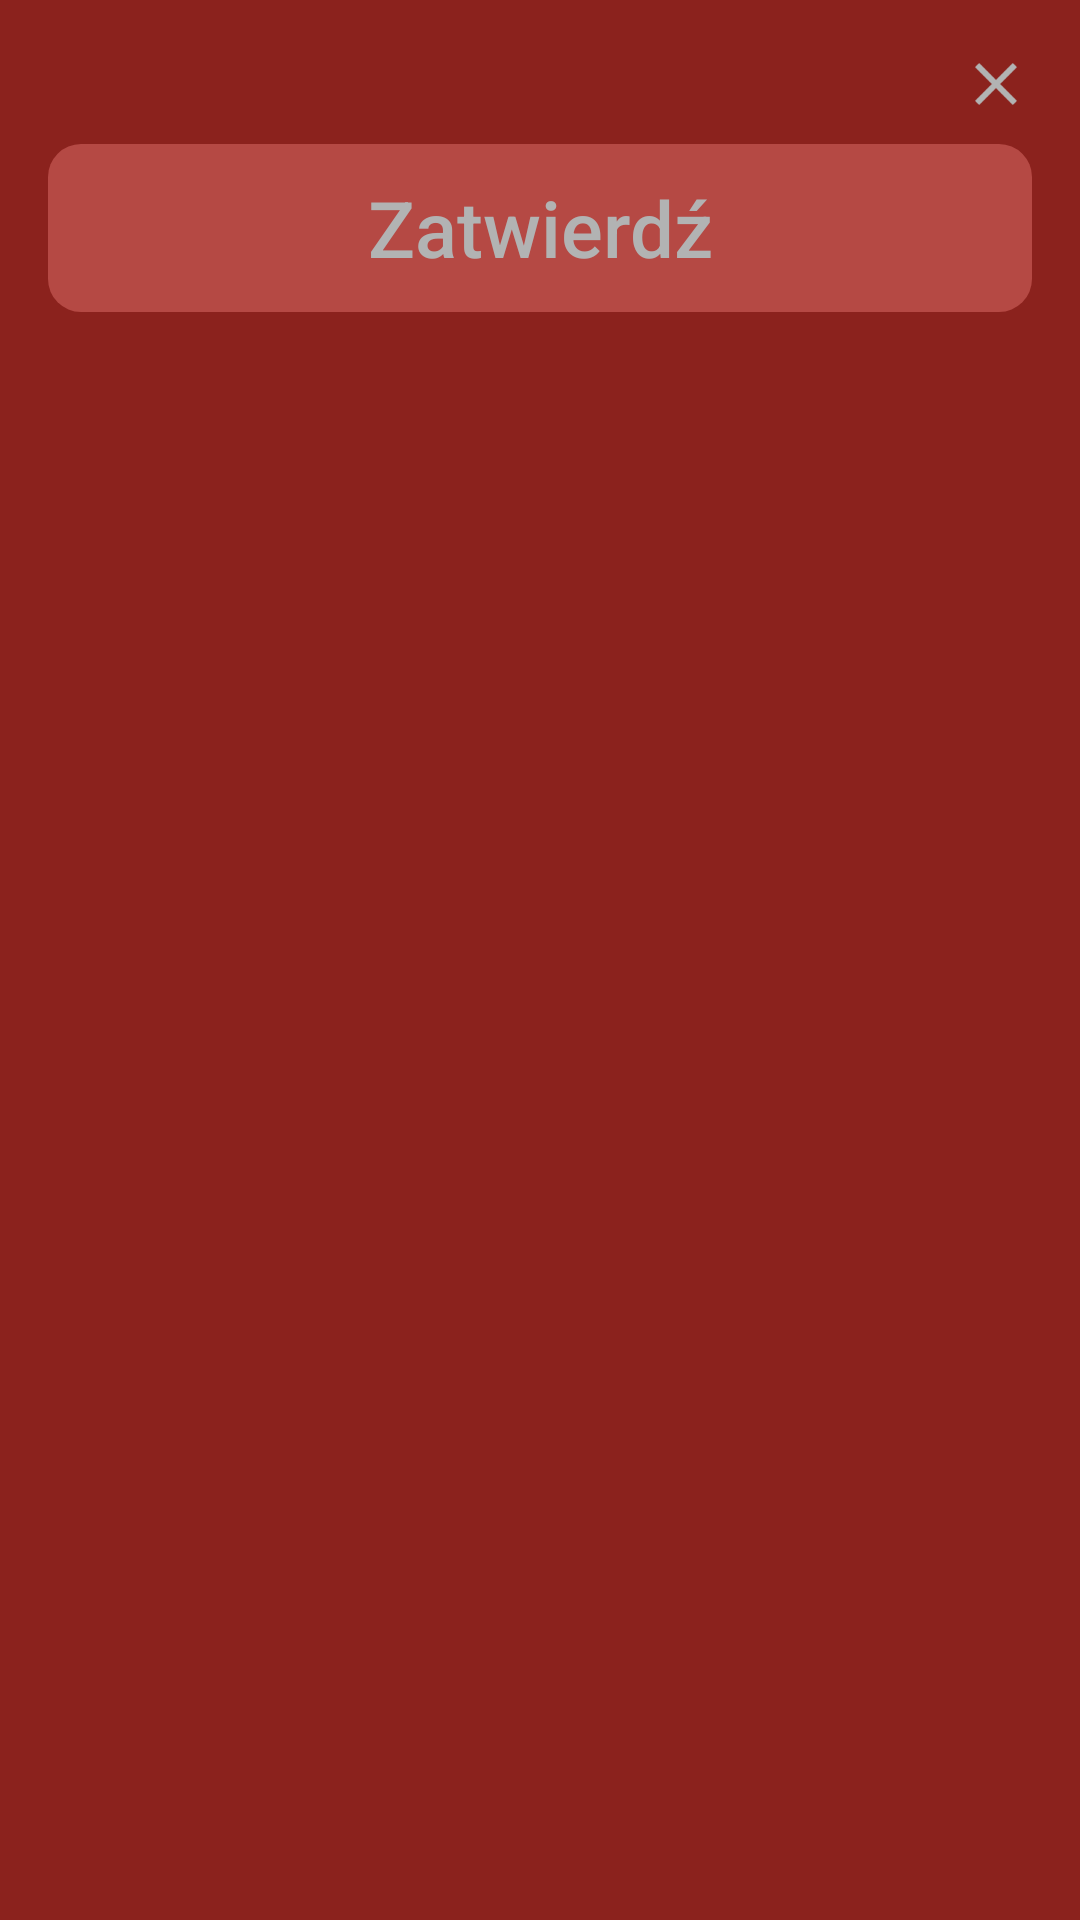

Where icons sit on this 1080px x 1920px app screen, as {"x1": x1, "y1": y1, "x2": x2, "y2": y2}:
close: {"x1": 975, "y1": 63, "x2": 1017, "y2": 105}
